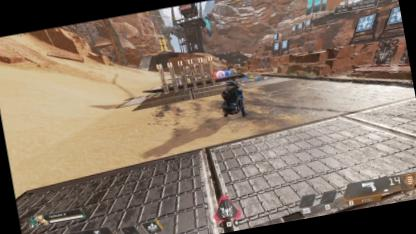Target: (216, 79, 246, 122)
